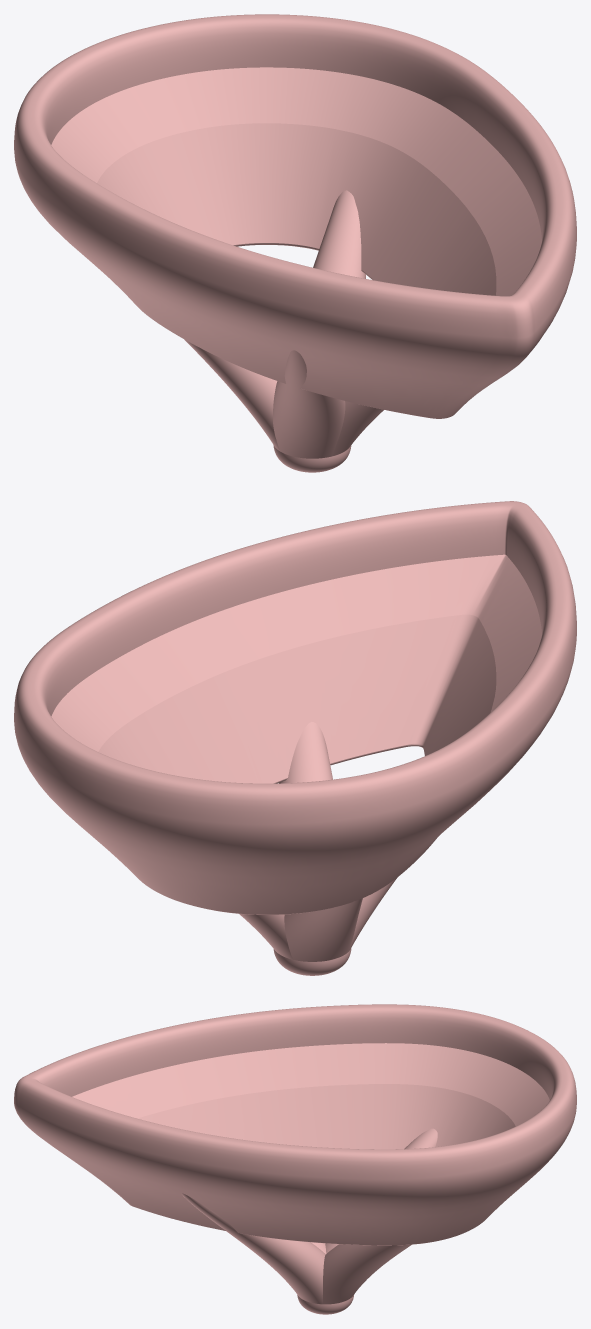
File: PEAR.glb
3 renders of one model, top to bottom at view 1: azimuth 30°, elevation 25°; view 2: azimuth 150°, elevation 25°; view 3: azimuth 270°, elevation 25°, orthographic. The views are drawn at different scales.
Parts seen in each view (by area): view 1: Pear; view 2: Pear; view 3: Pear.
Part boxes in pixels (x1=…): Pear: x1=14, y1=14, x2=576, y2=472; Pear: x1=14, y1=501, x2=576, y2=975; Pear: x1=14, y1=1004, x2=576, y2=1314.
Bounding box in the file's own units: 5.8 × 4.01 × 8.86.
